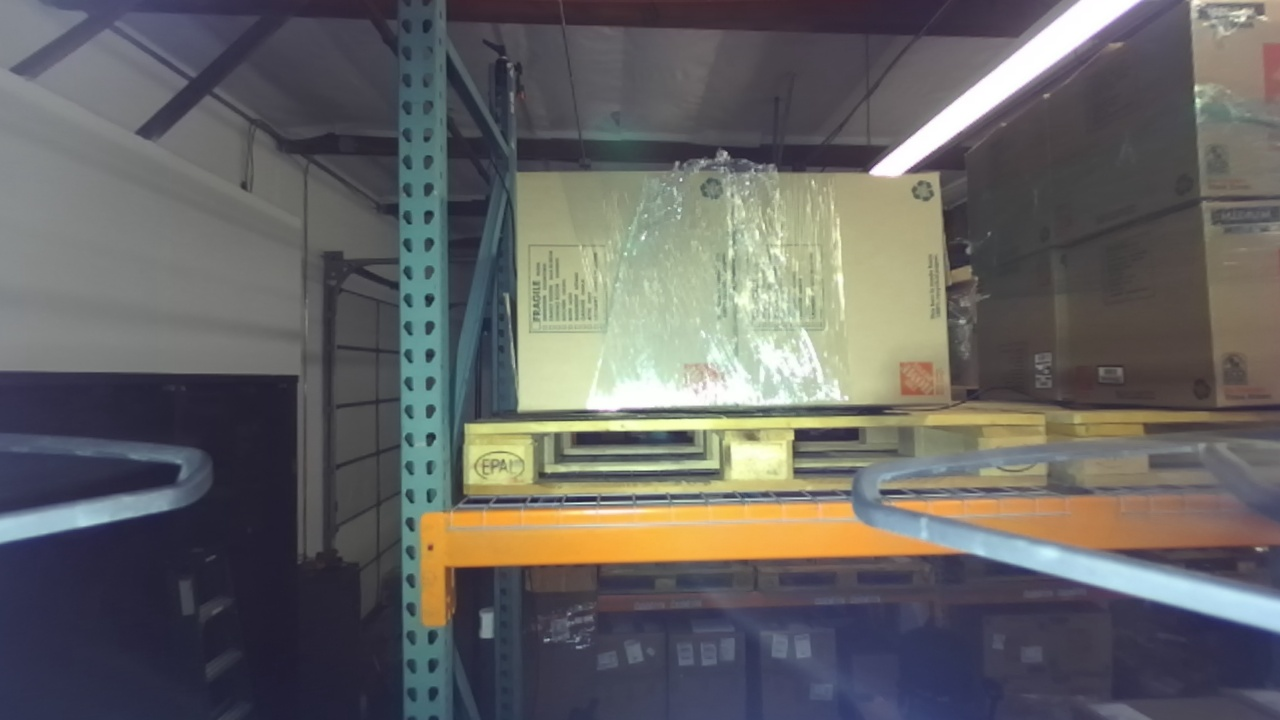box: (489, 159, 759, 421), (709, 154, 960, 414)
